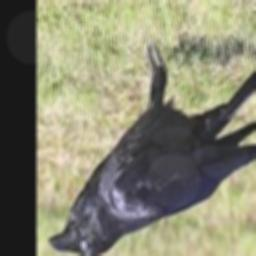Crow: (49, 40, 256, 256)
